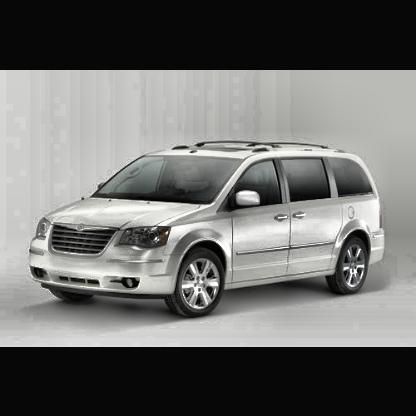Chrysler Town and Country Minivan 2012: (32, 143, 386, 318)
